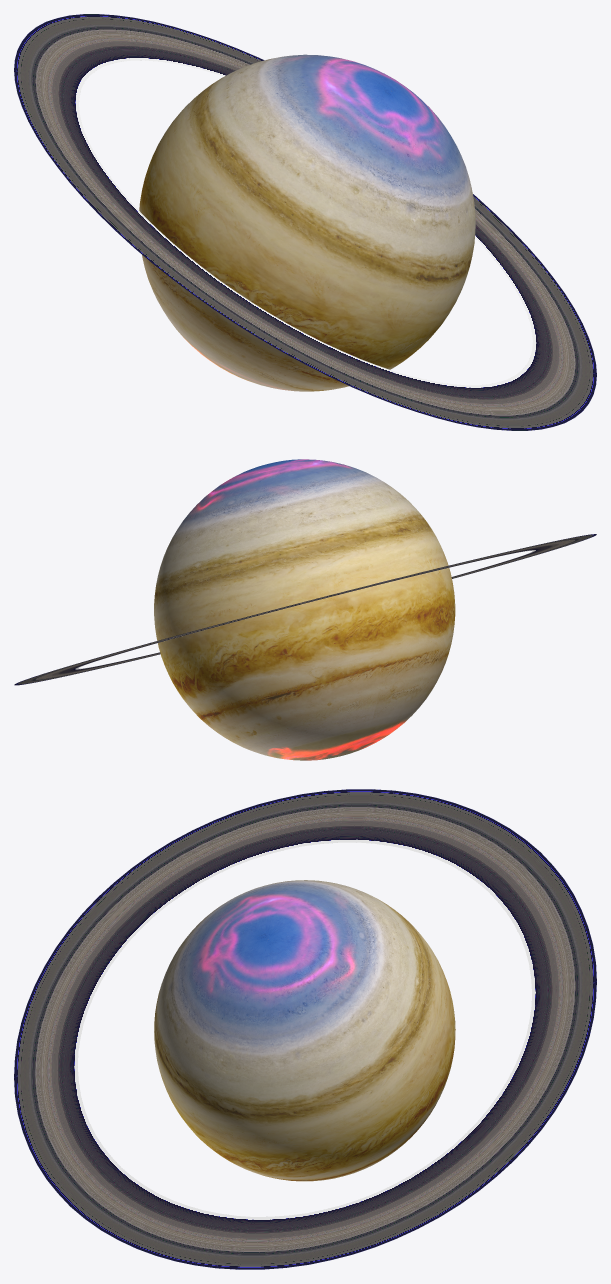
Rendered from Saturn.fbx.
3 views of the same model, one above another, from view 1: azimuth 30°, elevation 25°; view 2: azimuth 150°, elevation 25°; view 3: azimuth 270°, elevation 25° (orthographic). The views are drawn at different scales.
Visible parts, largest first — view 1: 137, 148; view 2: 137, 148; view 3: 148, 137.
Part boxes in pixels (bbox=[...]): 137: bbox=[139, 54, 475, 391]; 148: bbox=[14, 14, 596, 430]; 137: bbox=[154, 459, 455, 760]; 148: bbox=[14, 534, 596, 685]; 148: bbox=[14, 789, 596, 1269]; 137: bbox=[154, 880, 455, 1181].
Size of the model in its own units: 21.69 by 12.07 by 23.31.
Materials: 2 (2 with a texture image).
